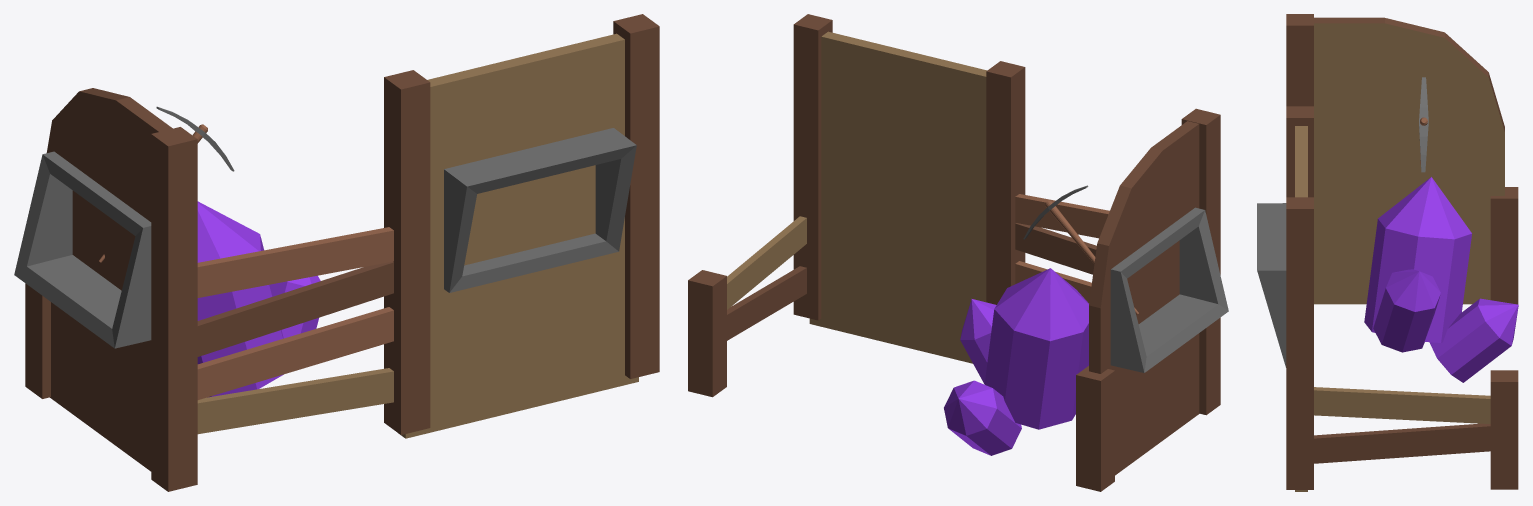
File: Crystal_Miner_Seperated.fbx
3 renders of one model, left to right at view 1: azimuth 30°, elevation 25°; view 2: azimuth 150°, elevation 25°; view 3: azimuth 270°, elevation 25°, orthographic. The views are drawn at different scales.
Visible parts, largest first — view 1: Cube.019; view 2: Cube.019, Cube.020; view 3: Cube.019, Cube.020.
Boxes of the visible parts, <box> form: Cube.019: <box>14,14,659,491</box>; Cube.019: <box>688,14,1228,491</box>; Cube.020: <box>1023,185,1138,314</box>; Cube.019: <box>1257,14,1518,491</box>; Cube.020: <box>1419,77,1428,172</box>.
Bounding box in the file's own units: 317 × 212 × 169.
